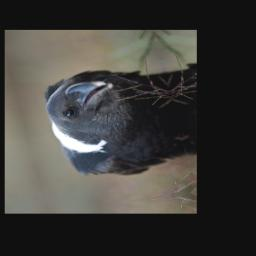Crow: (36, 61, 186, 184)
